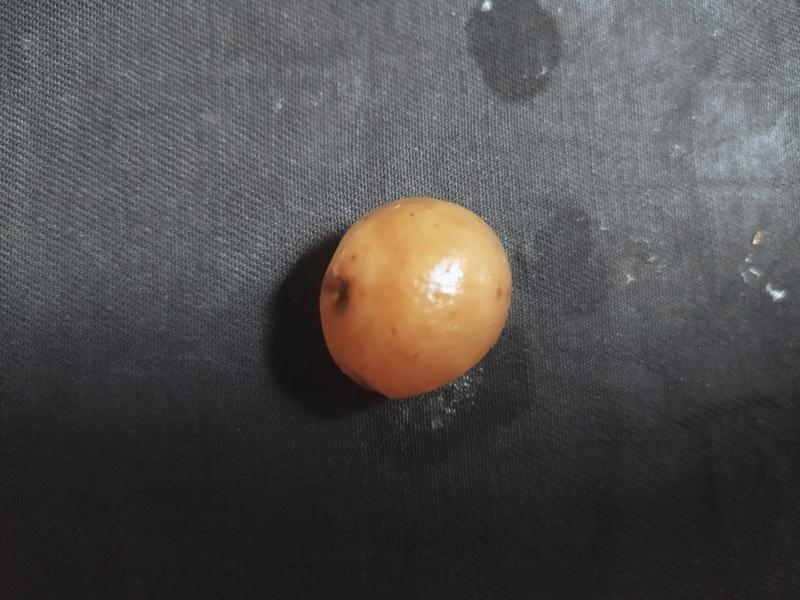Grape Rotten: (319, 198, 513, 402)
